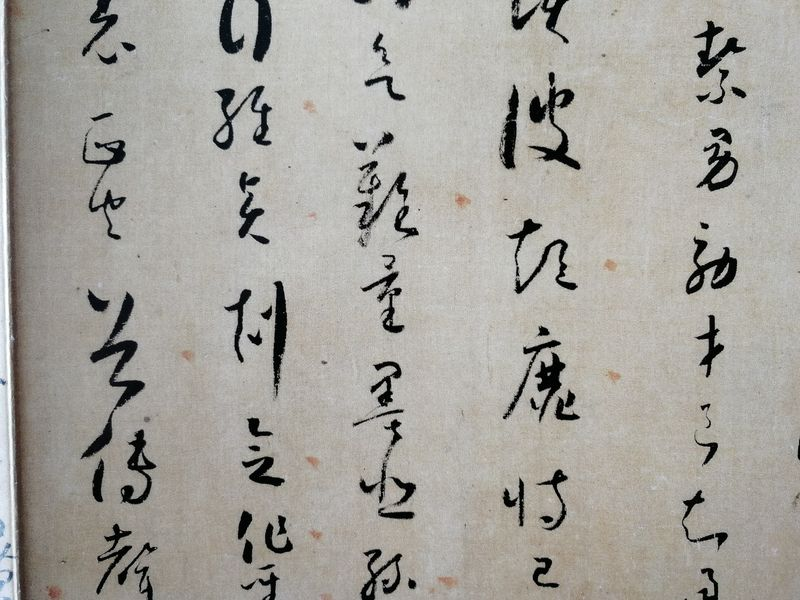zi: (75, 285, 152, 409), (350, 133, 422, 249), (506, 324, 588, 423), (505, 75, 584, 173), (220, 278, 289, 387), (75, 426, 158, 509), (83, 518, 159, 600), (683, 16, 751, 107), (505, 216, 578, 294), (355, 454, 429, 521), (216, 1, 283, 70), (688, 212, 739, 302), (503, 468, 572, 532), (215, 81, 276, 150), (358, 360, 408, 440), (359, 254, 407, 337), (235, 412, 286, 490), (363, 33, 414, 104), (231, 165, 276, 245), (237, 505, 299, 563), (80, 1, 134, 66), (359, 543, 419, 600), (514, 1, 579, 48), (695, 125, 738, 195), (675, 490, 726, 547), (82, 110, 129, 169), (85, 178, 129, 241), (691, 315, 722, 380), (693, 399, 720, 468), (241, 561, 285, 599), (531, 552, 557, 589), (697, 565, 718, 600)
